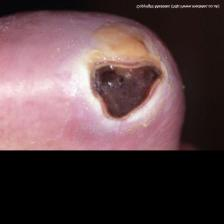Wound: (76, 26, 172, 133)
